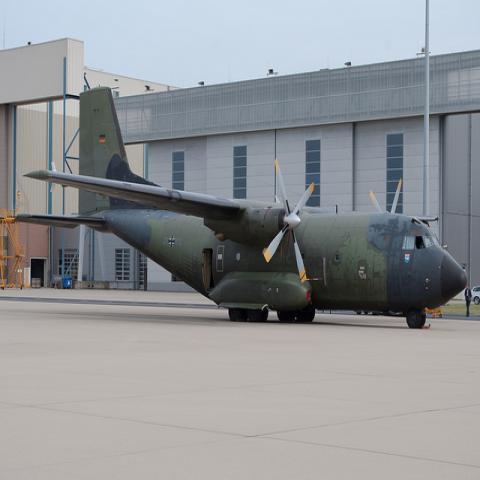car: (470, 283, 480, 308)
